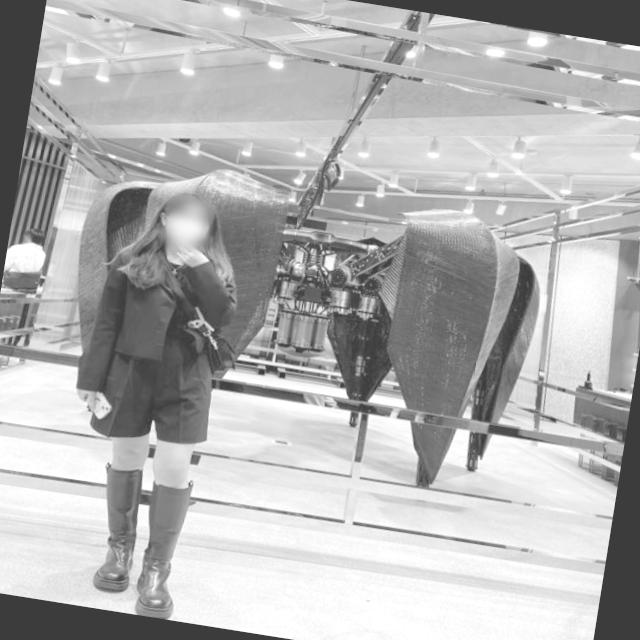blazer: (76, 236, 246, 414)
shortpants: (86, 324, 223, 454)
